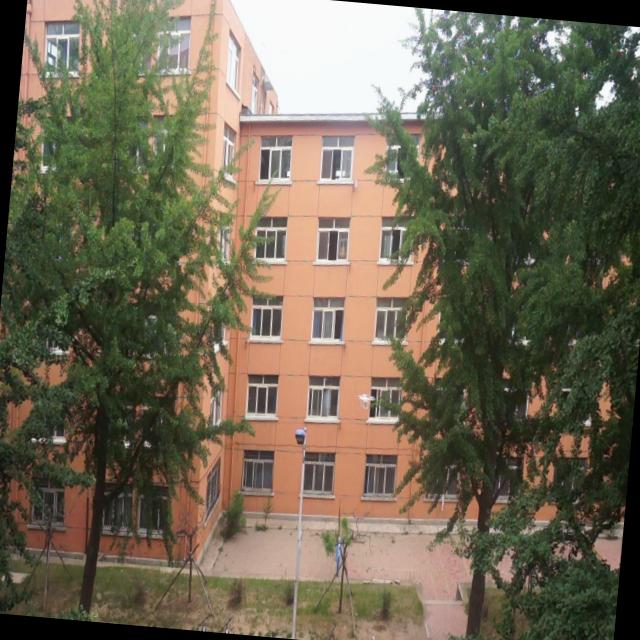drone: (356, 390, 374, 410)
